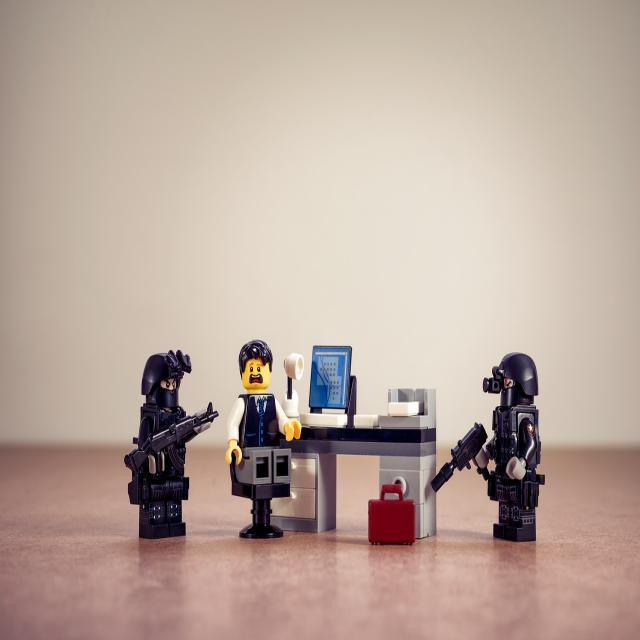Gun: (126, 402, 219, 472), (431, 422, 488, 491)
